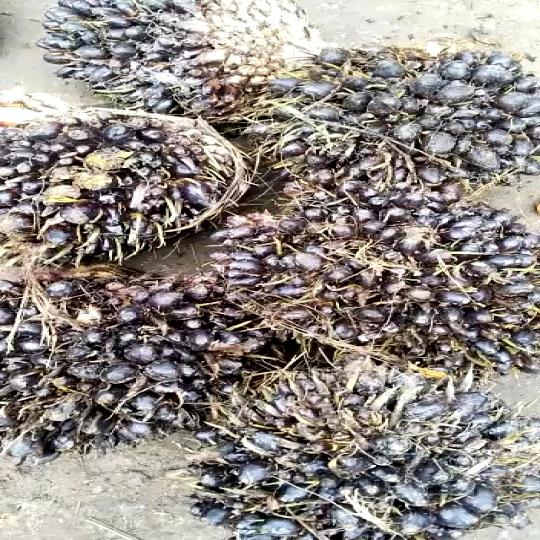mentah: (0, 261, 341, 478), (227, 348, 540, 539), (233, 46, 540, 197), (230, 206, 540, 353), (0, 92, 242, 274), (19, 0, 350, 118)
